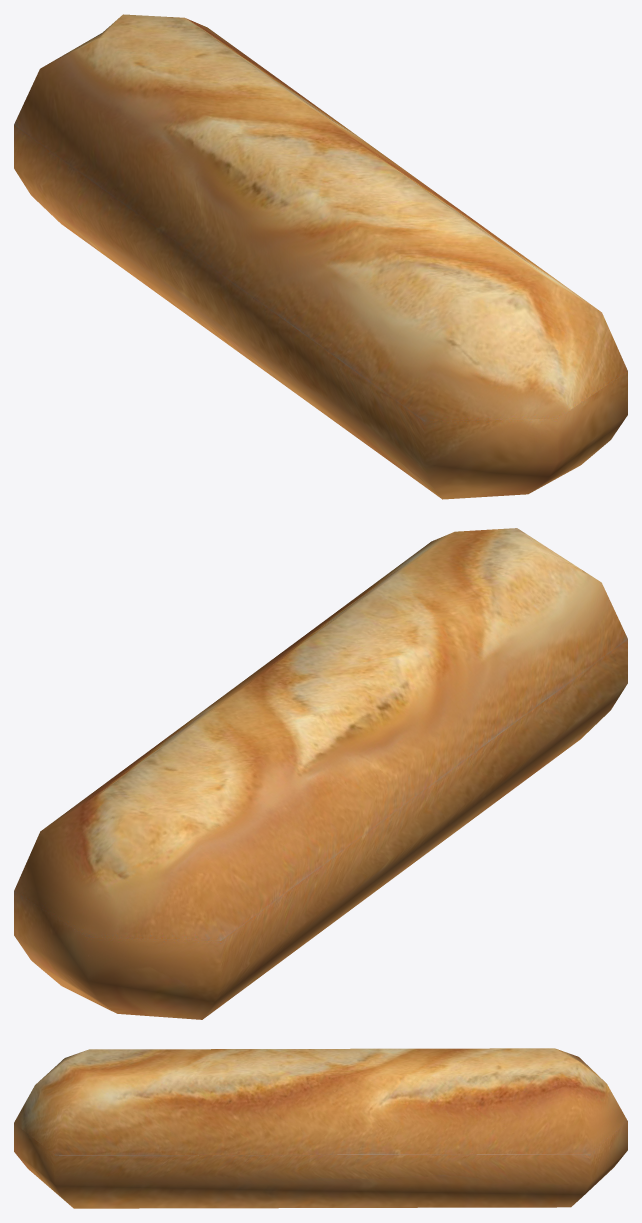
The model's file is baguette.fbx.
The picture shows the model from 3 angles, top to bottom: view 1: azimuth 30°, elevation 25°; view 2: azimuth 150°, elevation 25°; view 3: azimuth 270°, elevation 25°; orthographic projection. The views are drawn at different scales.
Parts seen in each view (by area): view 1: Baguette.002; view 2: Baguette.002; view 3: Baguette.002.
Part boxes in pixels (box(x1,y1,x2,y2)): Baguette.002: box(14, 14, 627, 499); Baguette.002: box(14, 528, 627, 1019); Baguette.002: box(14, 1048, 627, 1208).
Size of the model in its own units: 31.67 by 27.22 by 123.
